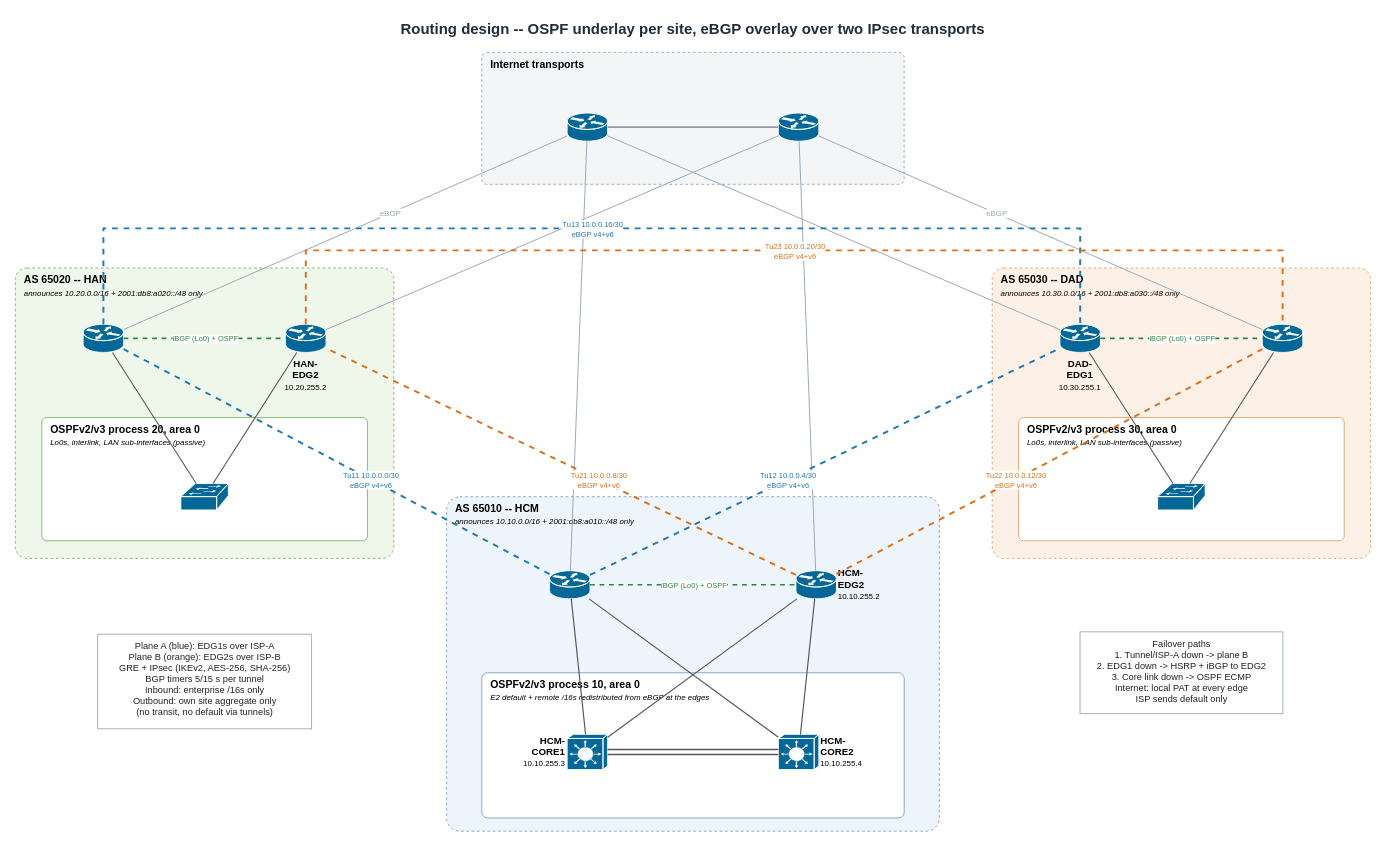
Some shapes in this 1386 by 847 pixel diagram are drawn without their labels. The centre of each missing label's shape, as x and y in pixels:
DAD-EDG2 10.30.255.2: point 1282,337
HAN-EDG1 10.20.255.1: point 103,337
HCM-EDG1 10.10.255.1: point 569,584
ISP-A AS 65100 default-originate only: point 587,126
ISP-B AS 65200 default-originate only: point 798,126
VLAN 20/40/60/99: point 204,496
VLAN 30/40/50/60/99: point 1181,496
